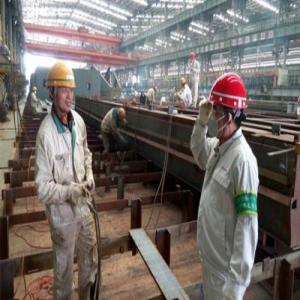red: (207, 73, 248, 144)
yellow: (47, 61, 80, 117)
